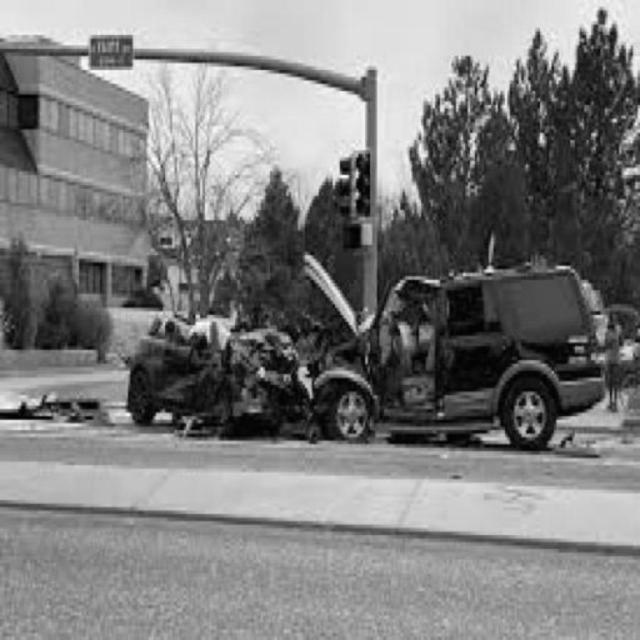accident: (128, 274, 610, 452)
